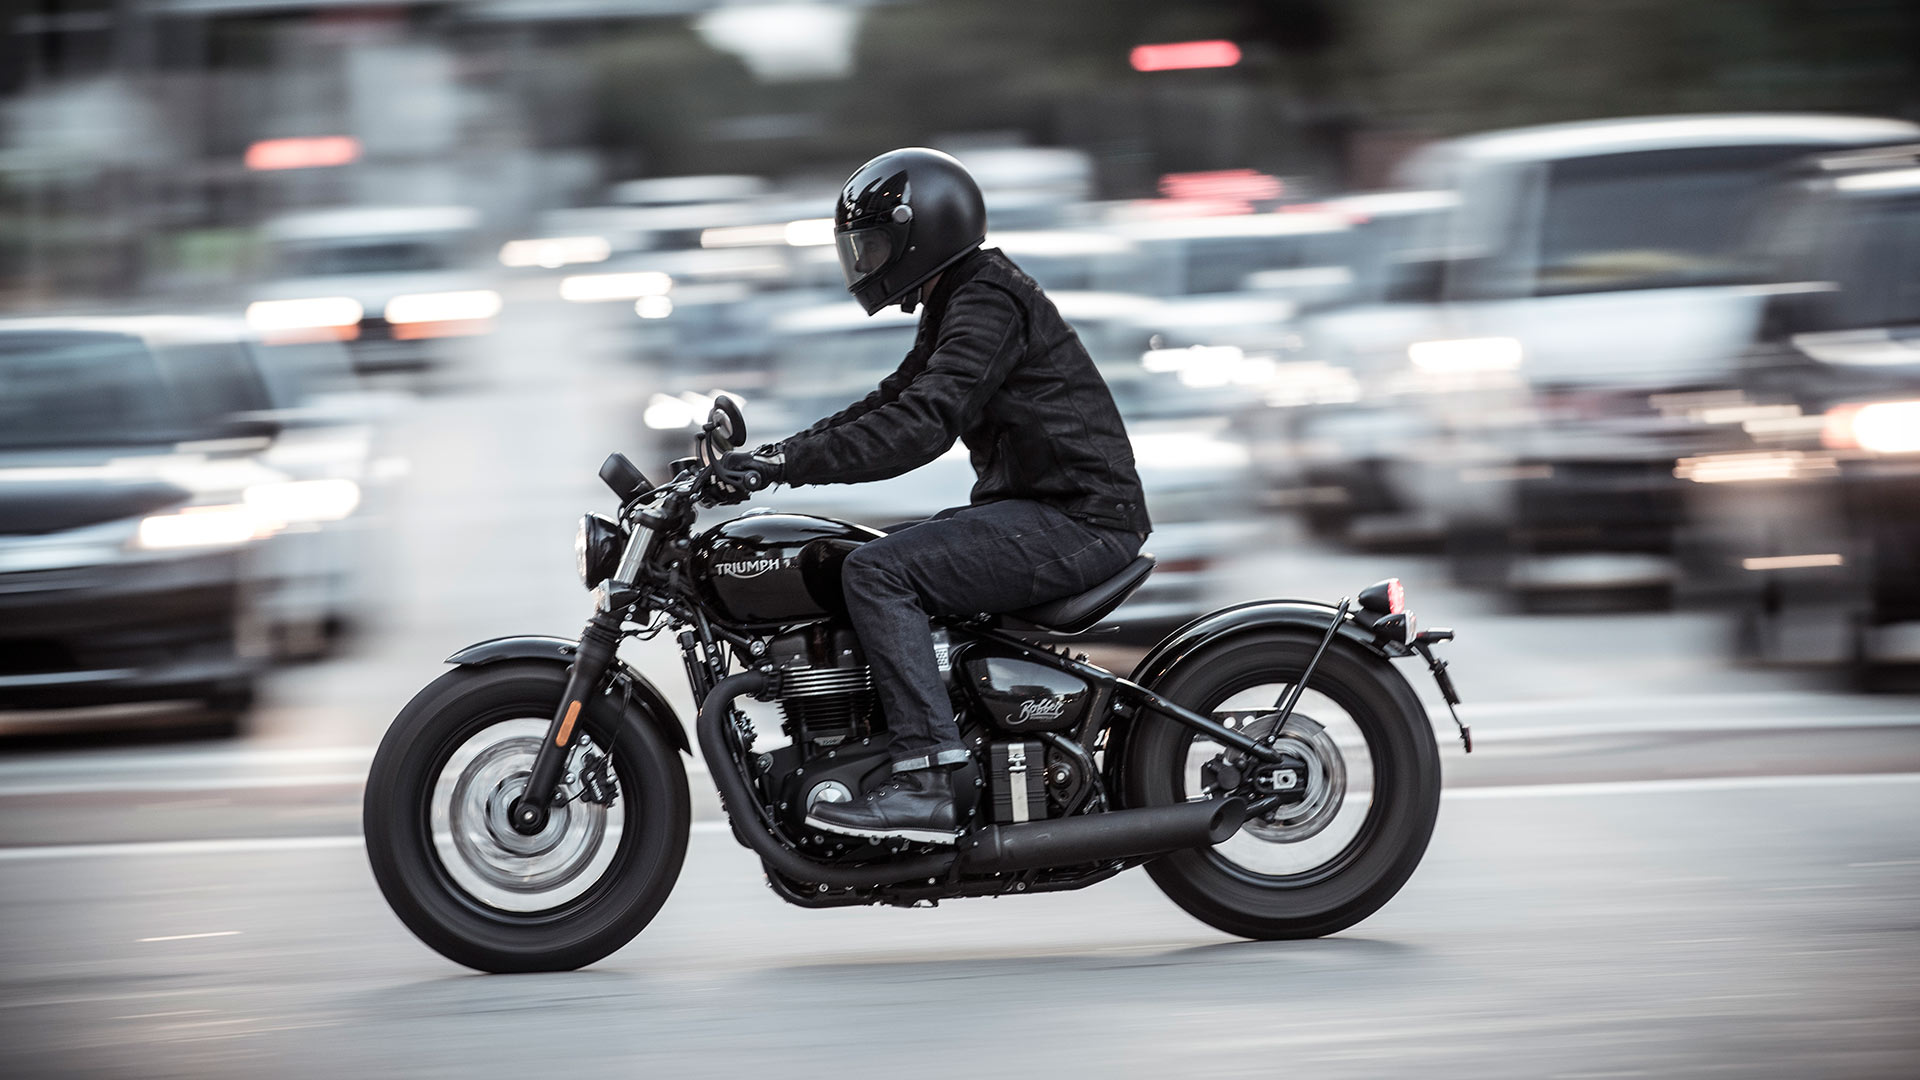helmet: (800, 111, 1048, 401)
